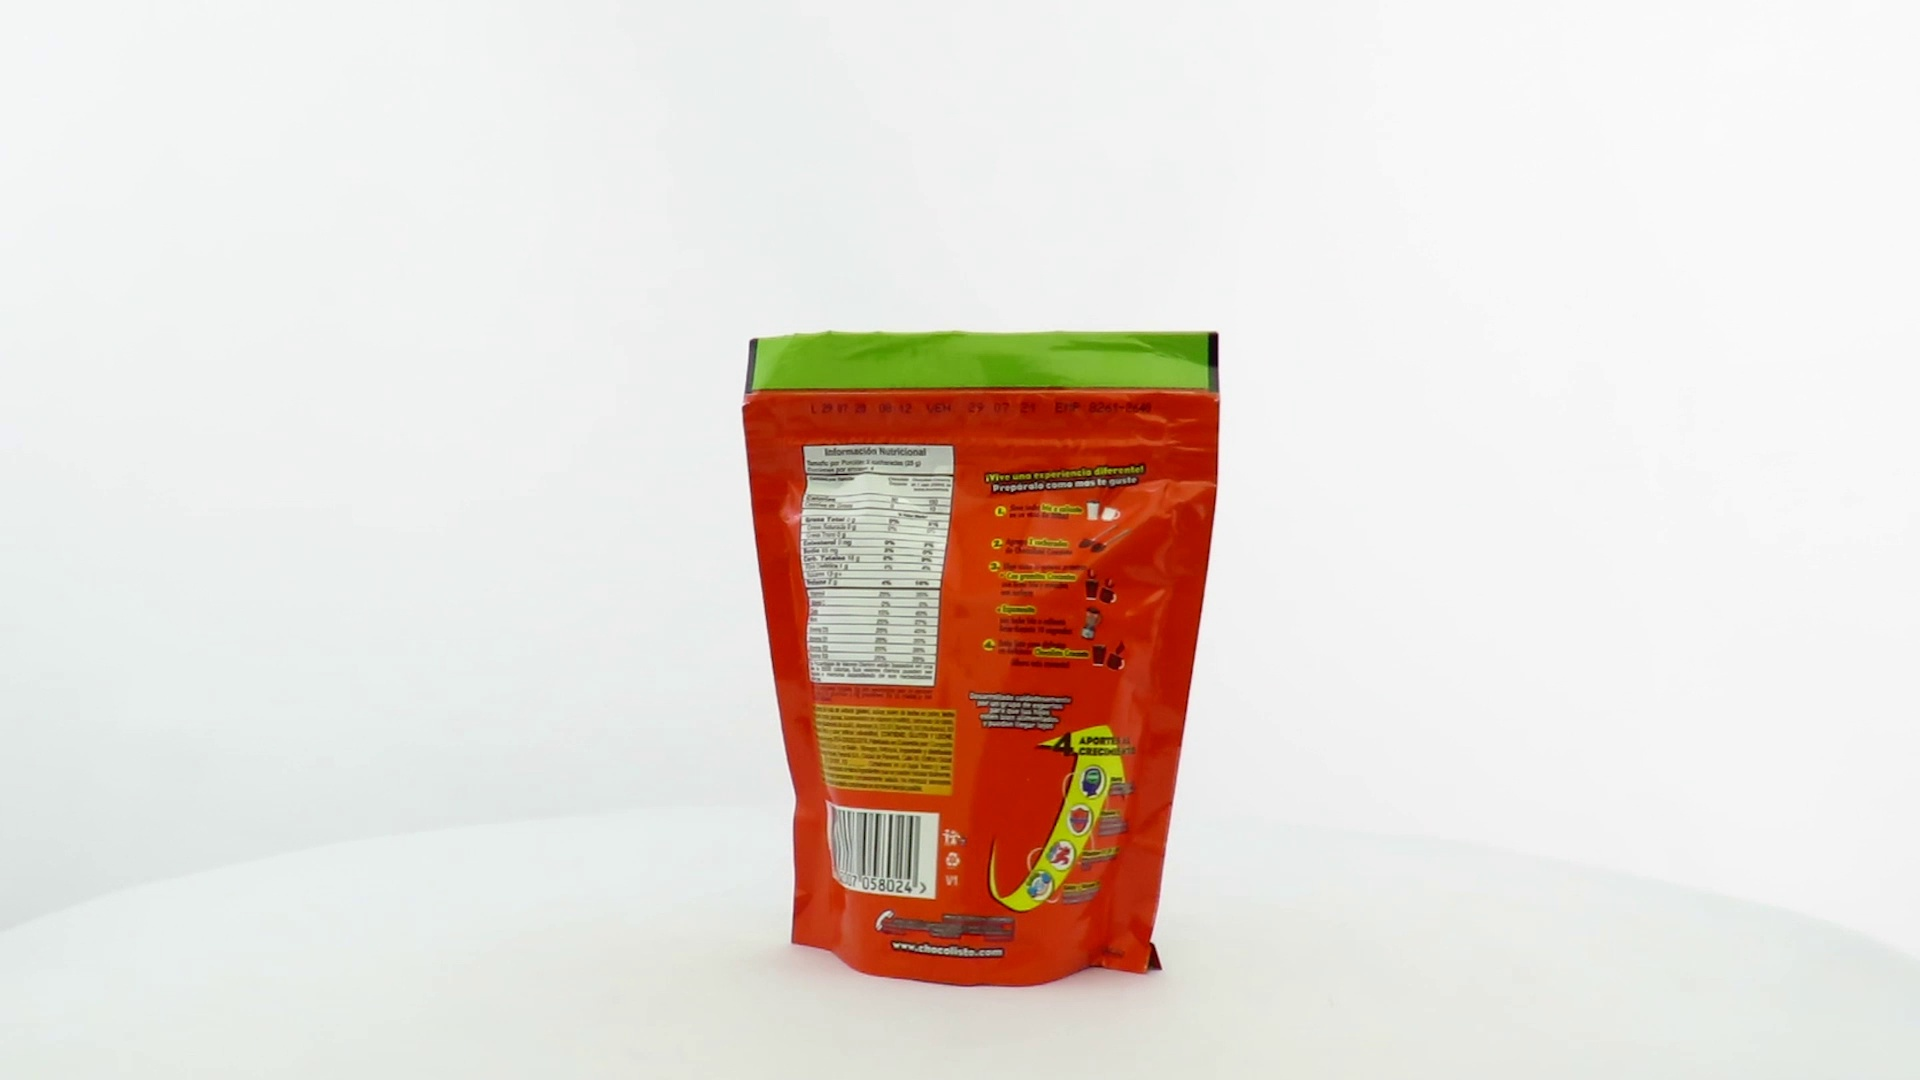COL0170102DYP10000: (737, 324, 1226, 994)
